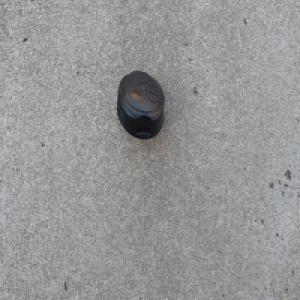FuelCap: (115, 68, 166, 144)
